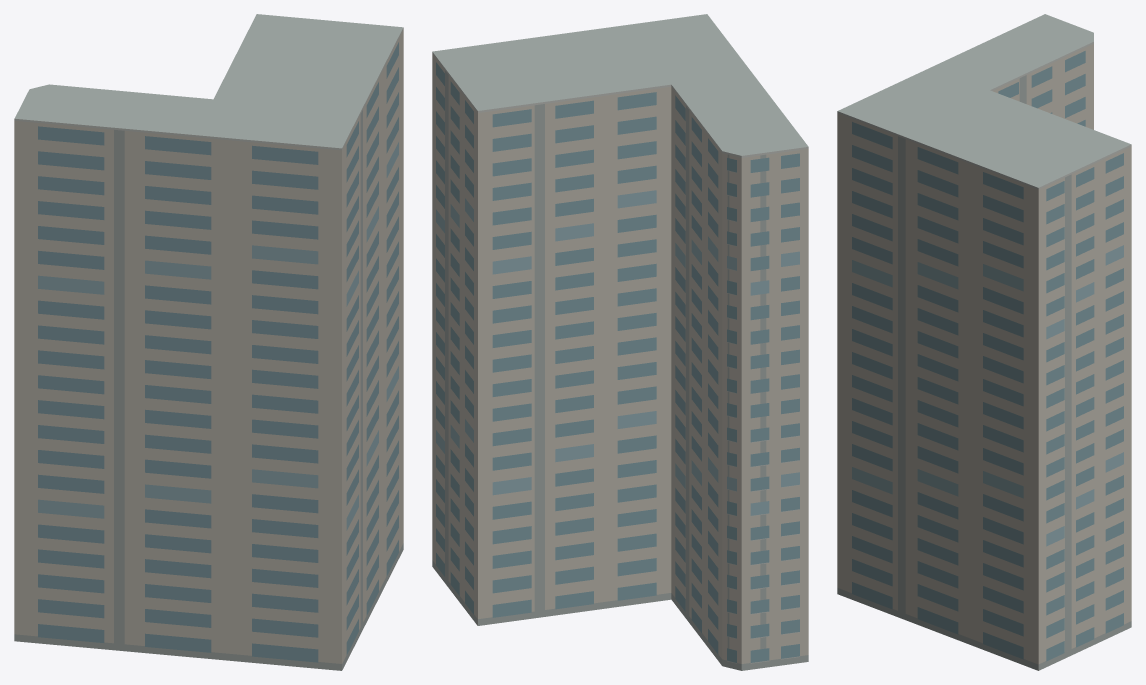
Rendered from residential-ff058d46-153e-4481-9330-b96618bb856e.glb.
3 views of the same model, side by side, from view 1: azimuth 30°, elevation 25°; view 2: azimuth 150°, elevation 25°; view 3: azimuth 270°, elevation 25° (orthographic). The views are drawn at different scales.
Visible parts, largest first — view 1: residential-ff058d46-153e-4481-9330-b96618bb856e.tmp; view 2: residential-ff058d46-153e-4481-9330-b96618bb856e.tmp; view 3: residential-ff058d46-153e-4481-9330-b96618bb856e.tmp.
Part boxes in pixels (bbox=[...]): residential-ff058d46-153e-4481-9330-b96618bb856e.tmp: bbox=[14, 14, 403, 670]; residential-ff058d46-153e-4481-9330-b96618bb856e.tmp: bbox=[432, 14, 808, 670]; residential-ff058d46-153e-4481-9330-b96618bb856e.tmp: bbox=[837, 14, 1131, 670].
Bounding box in the file's own units: 47.87 × 62 × 34.22.
